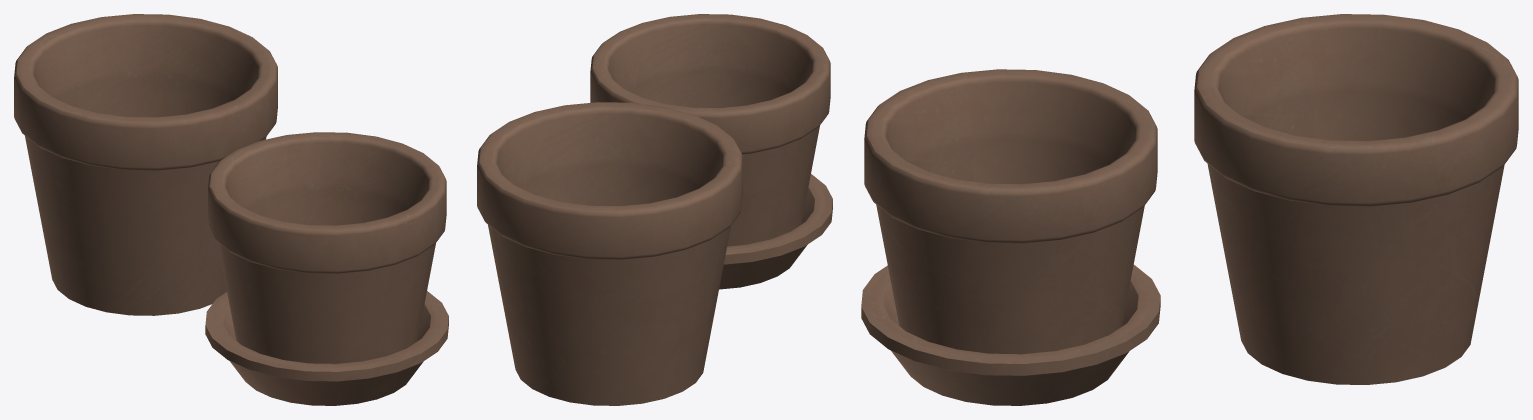
File: flowerPots.gltf
3 views of the same model, side by side, from view 1: azimuth 30°, elevation 25°; view 2: azimuth 150°, elevation 25°; view 3: azimuth 270°, elevation 25° (orthographic). The views are drawn at different scales.
Visible parts, largest first — view 1: flower_pot_under; view 2: flower_pot_under; view 3: flower_pot_under.
Part boxes in pixels (bbox=[...]): flower_pot_under: bbox=[14, 14, 448, 405]; flower_pot_under: bbox=[477, 14, 832, 405]; flower_pot_under: bbox=[861, 14, 1518, 405].
Size of the model in its own units: 0.1901 by 0.1454 by 0.3382.
1 material, 1 textured.
